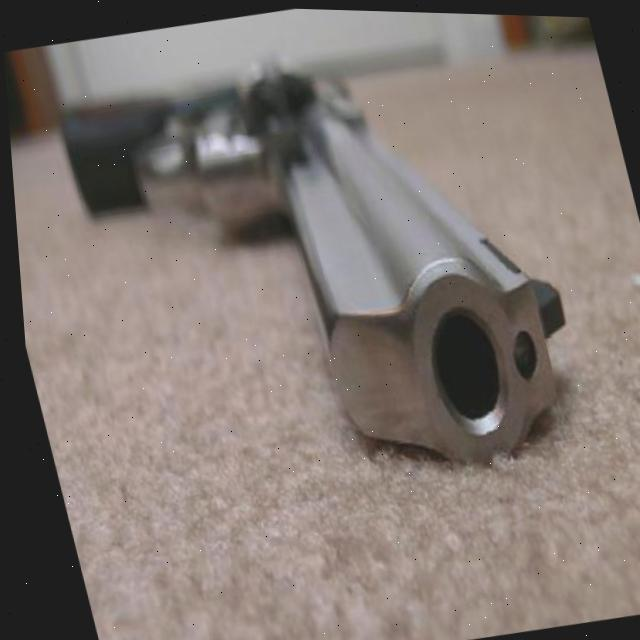gun: (47, 18, 602, 504)
